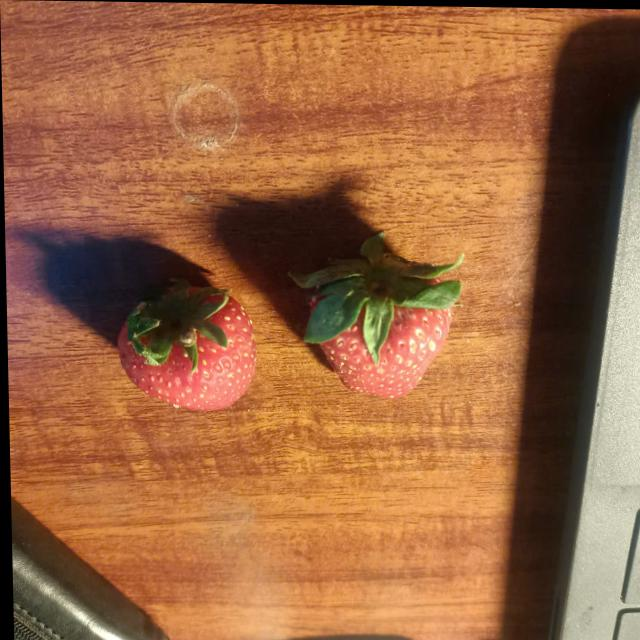DauTay: (301, 236, 448, 400), (110, 278, 264, 411)
